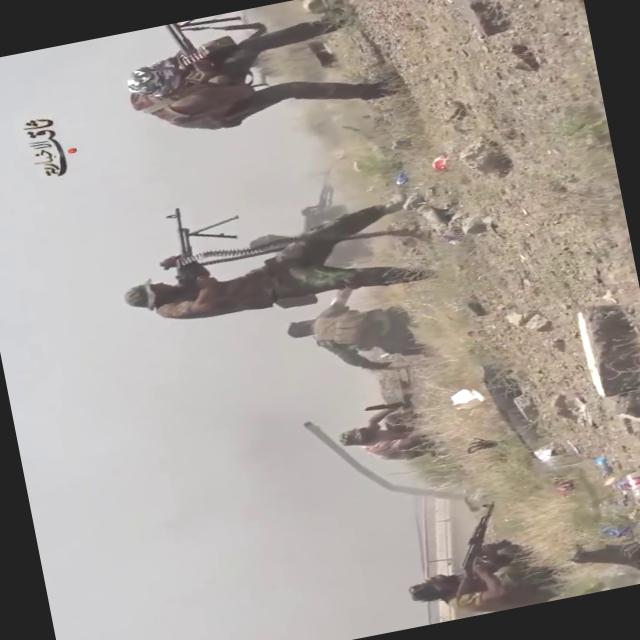long weapon: (136, 184, 256, 306), (428, 488, 536, 612)
